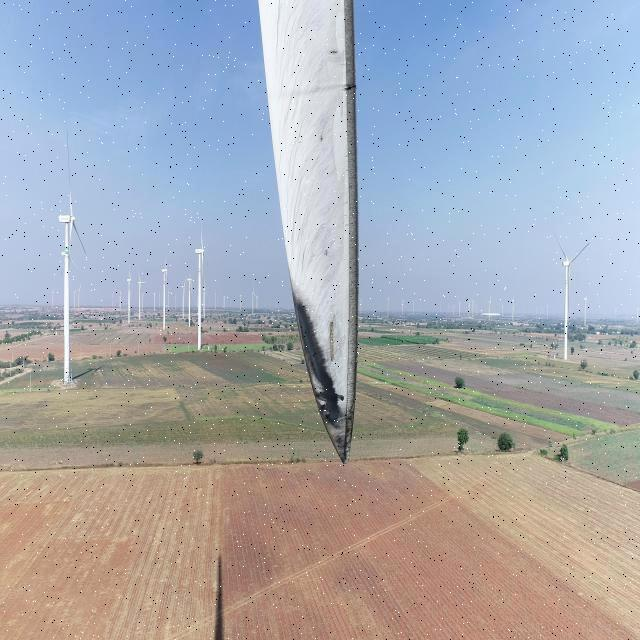Dirt: (257, 1, 353, 466)
Oil LEAKAGE: (293, 301, 350, 454)
Pin Hole: (330, 44, 343, 57), (337, 394, 349, 404), (319, 132, 327, 144)
